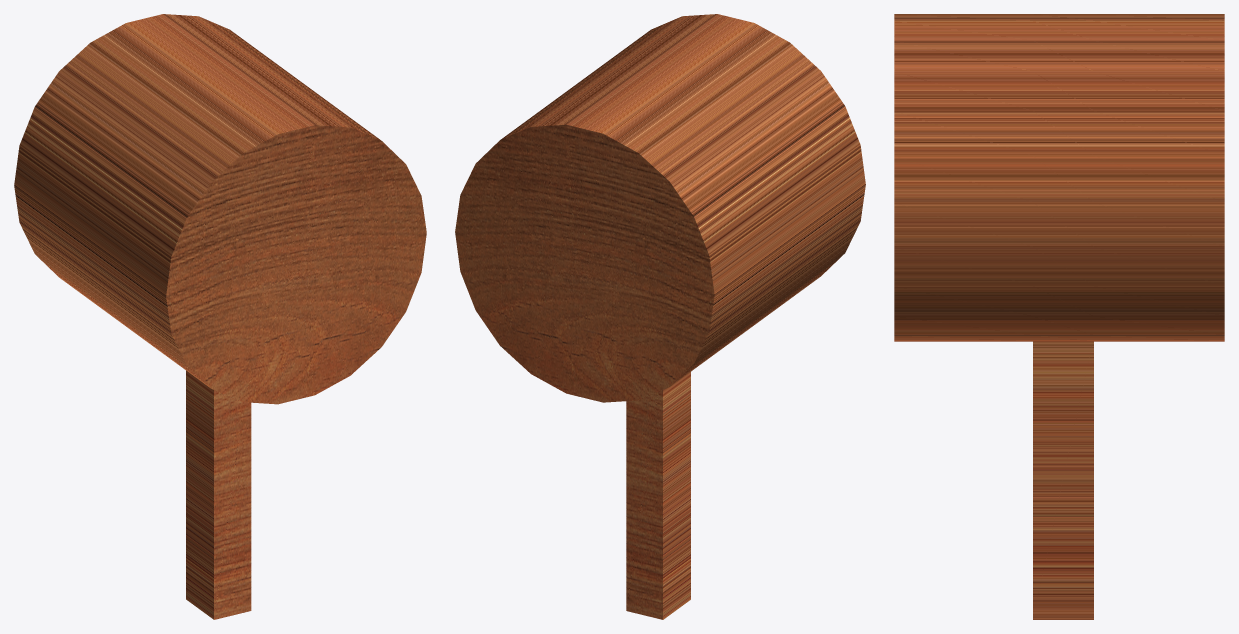
The model's file is Tool_Dwarfgavel.fbx.
3 renders of one model, left to right at view 1: azimuth 30°, elevation 25°; view 2: azimuth 150°, elevation 25°; view 3: azimuth 270°, elevation 25°, orthographic. The views are drawn at different scales.
Visible parts, largest first — view 1: pCylinder1; view 2: pCylinder1; view 3: pCylinder1.
Part boxes in pixels (x1=…): pCylinder1: x1=14, y1=14, x2=426, y2=619; pCylinder1: x1=455, y1=14, x2=865, y2=619; pCylinder1: x1=894, y1=14, x2=1224, y2=619.
Size of the model in its own units: 5.09 by 9.93 by 5.14.
1 material, 1 textured.
